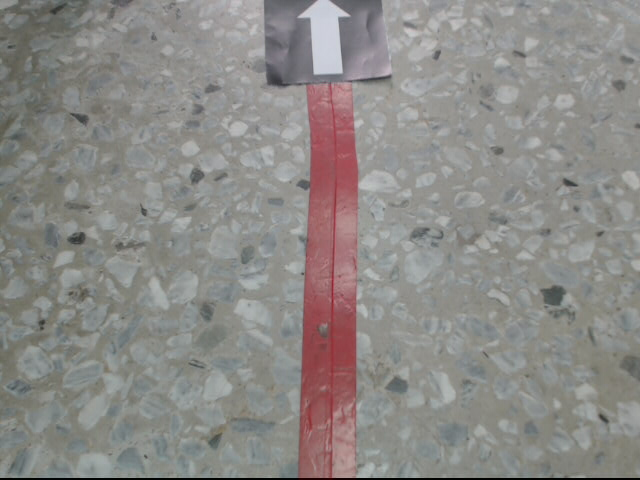straight: (261, 0, 391, 80)
